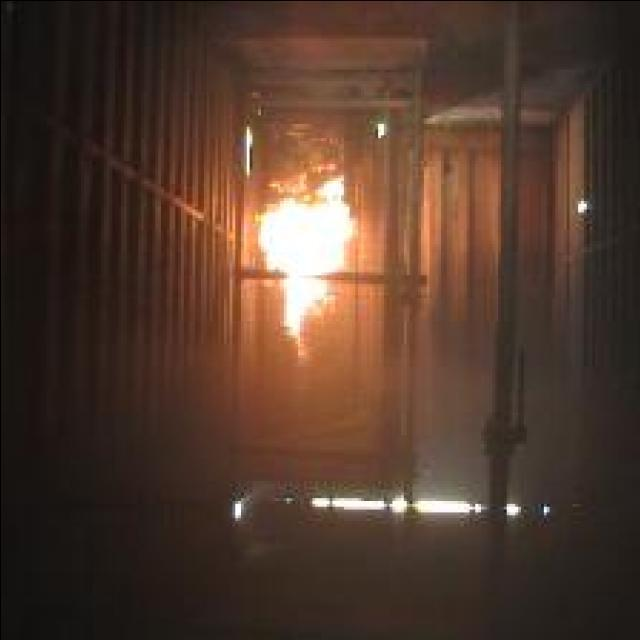Fire: (253, 177, 353, 357)
